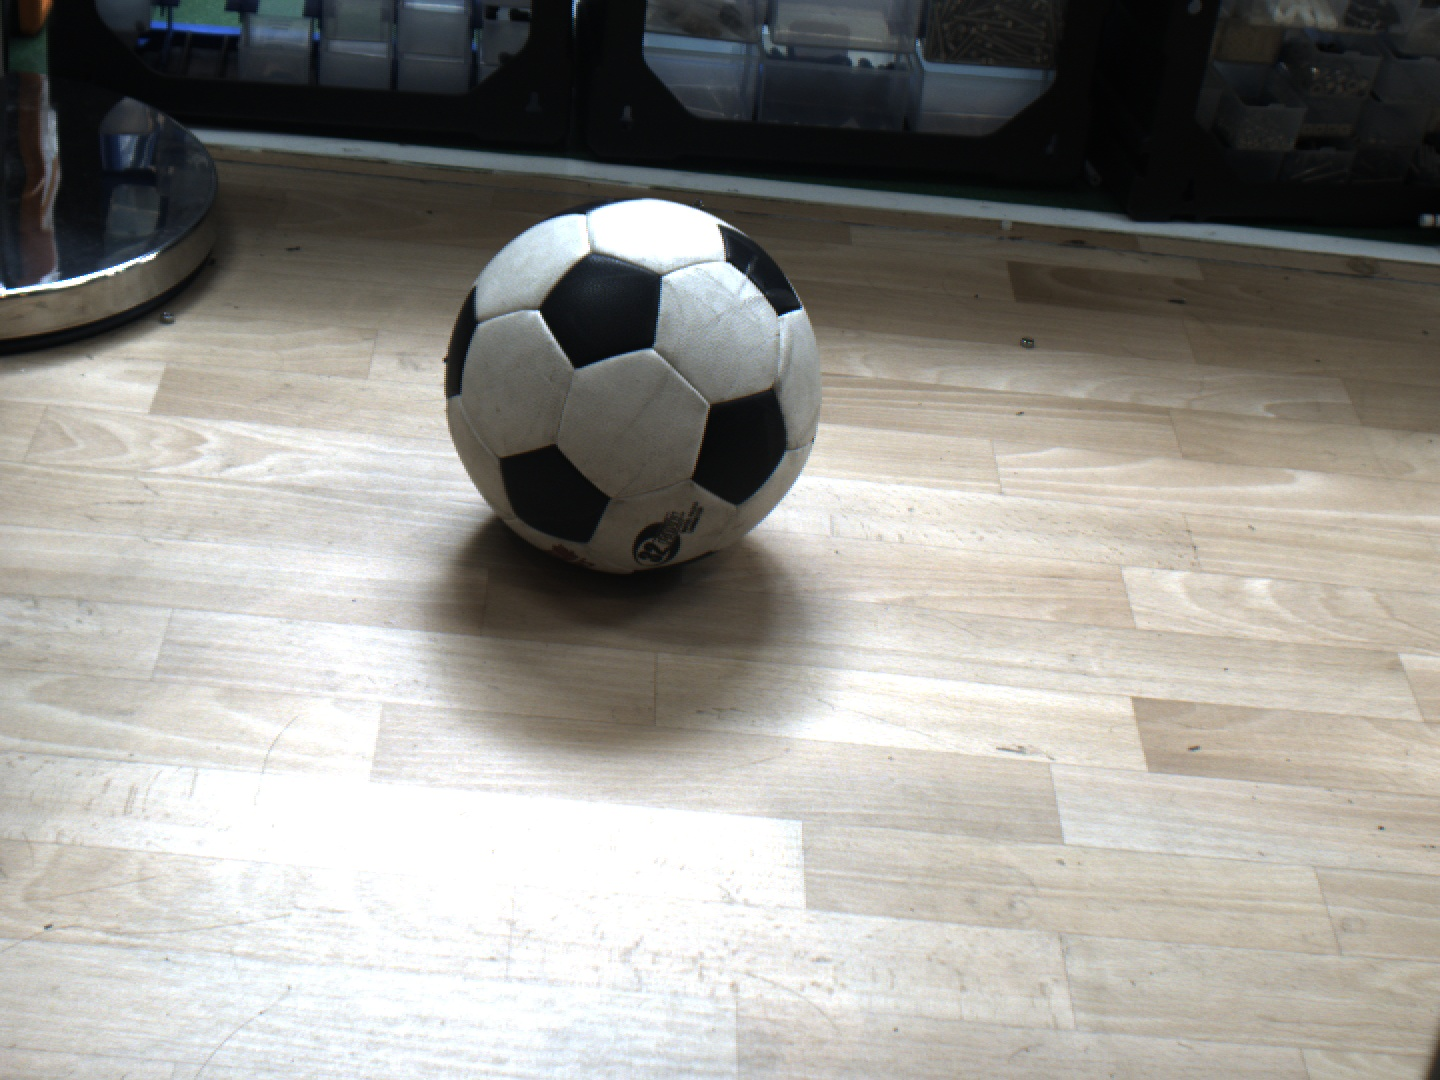ball: (440, 189, 824, 581)
